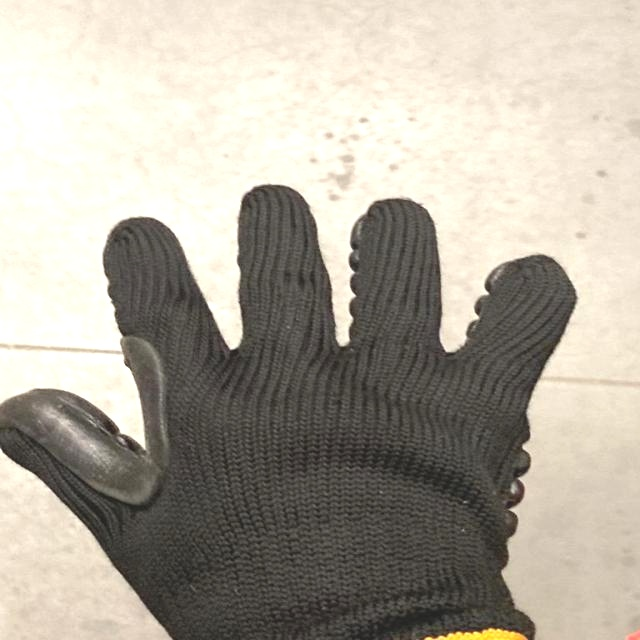gloves: (6, 183, 583, 640)
